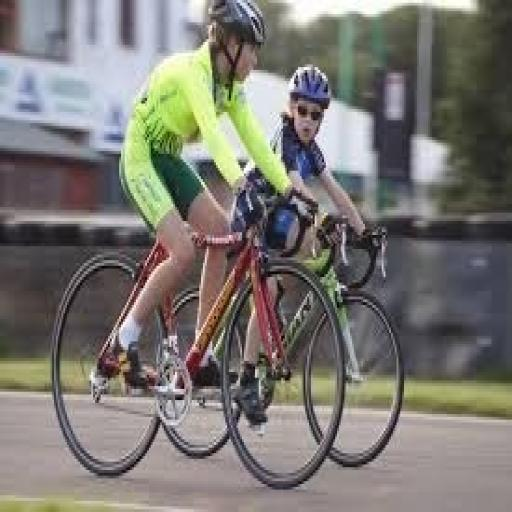cycling: (91, 0, 310, 408), (229, 62, 371, 428)
